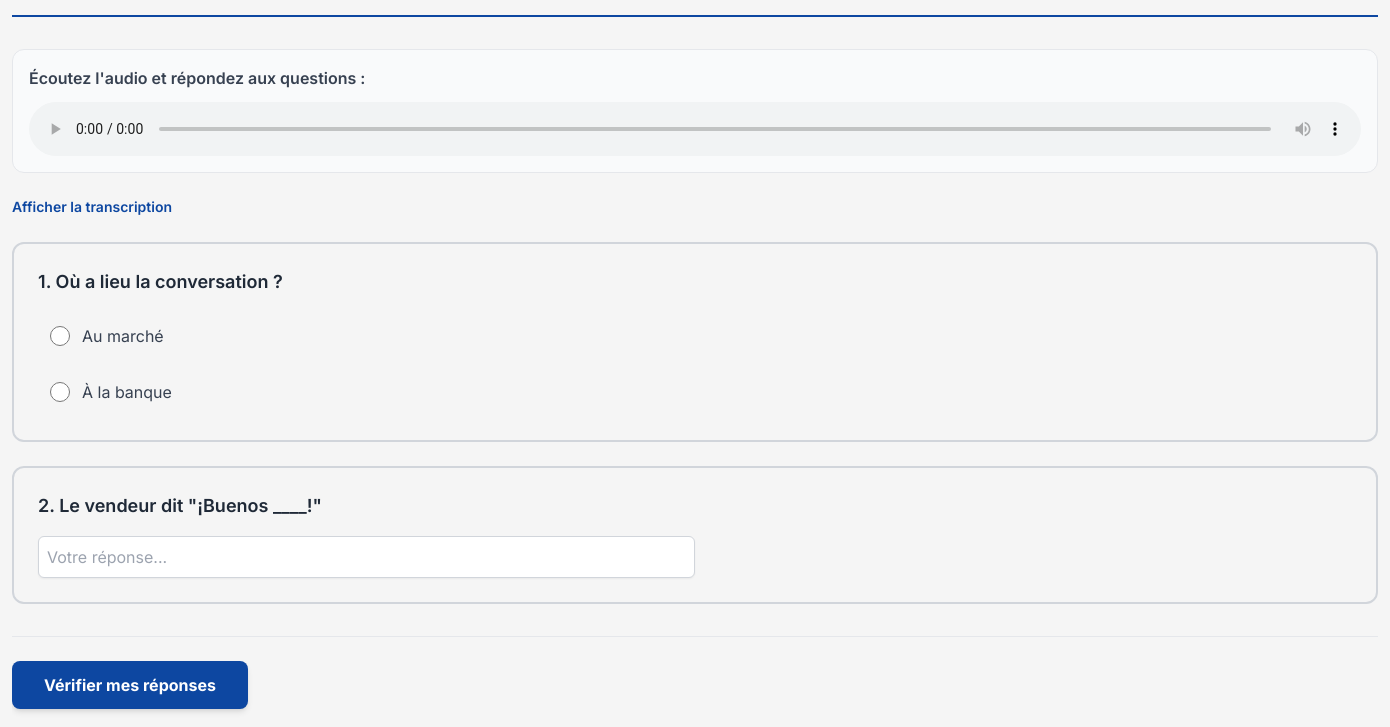
Test: ListeningExercise › réinitialise l'exercice lorsque "Réessayer" est cliqué
The width and height of the screenshot is (1390, 727).
Click the radio button labelled "À la banque": x=60, y=392 x1=50 y1=382 x2=70 y2=402
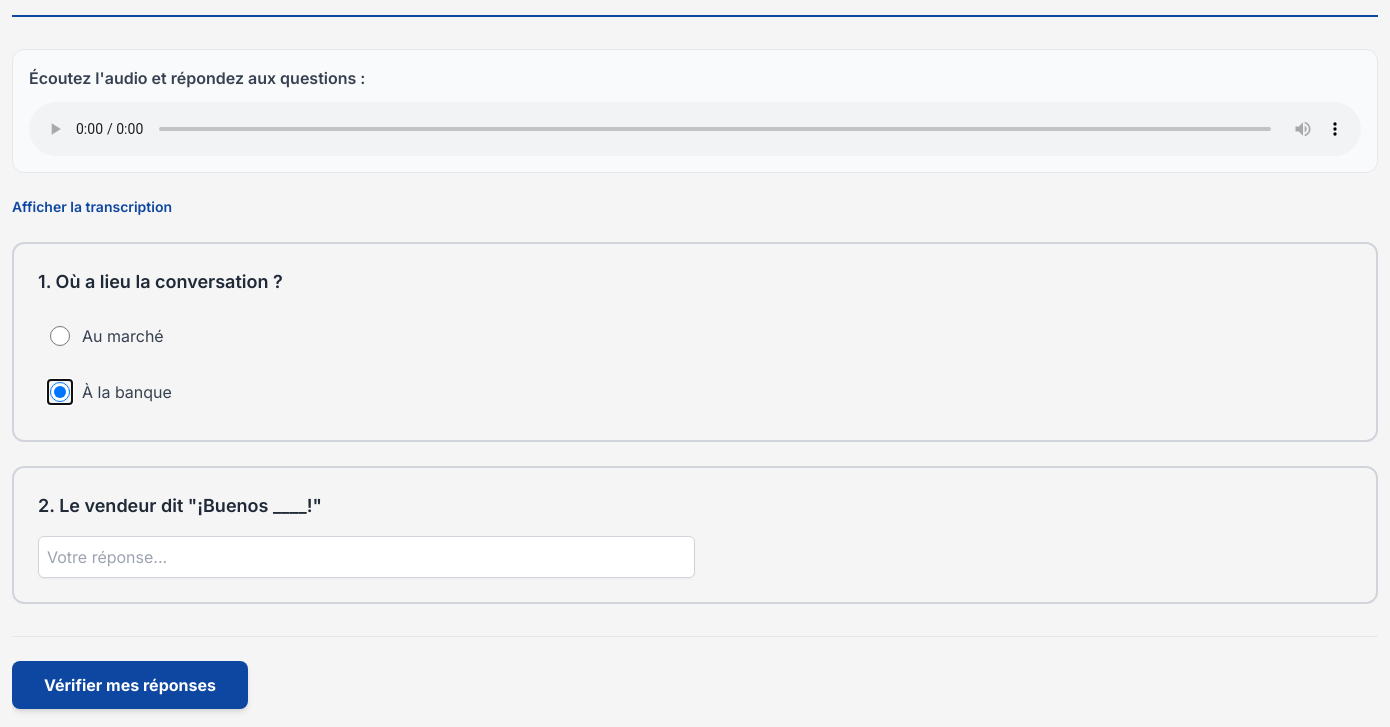
Click the button "Vérifier mes réponses": x=130, y=685 x1=12 y1=661 x2=248 y2=709
(page scrolled)
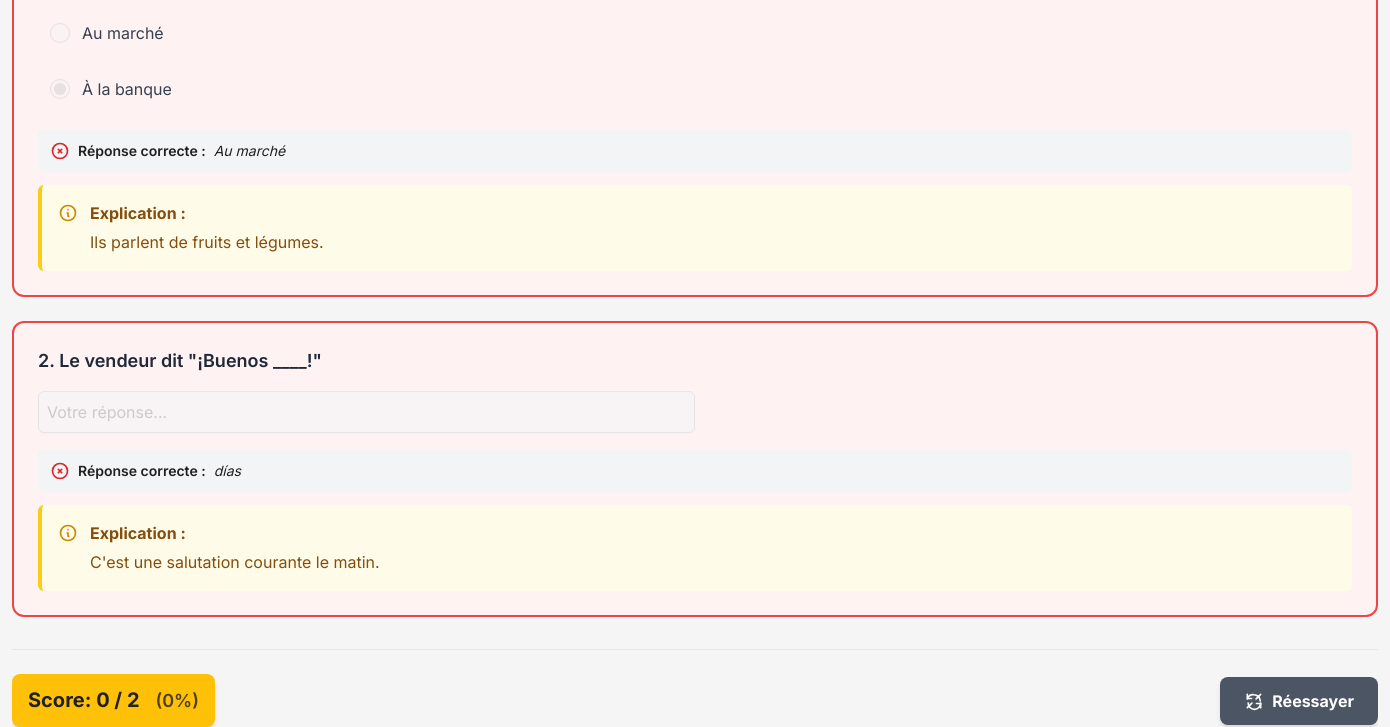
Now the text "Score: 0 / 2" is shown, box x1=28 y1=686 x2=140 y2=714
Click the button "Réessayer": x=1299, y=700 x1=1220 y1=676 x2=1378 y2=724
(page scrolled)
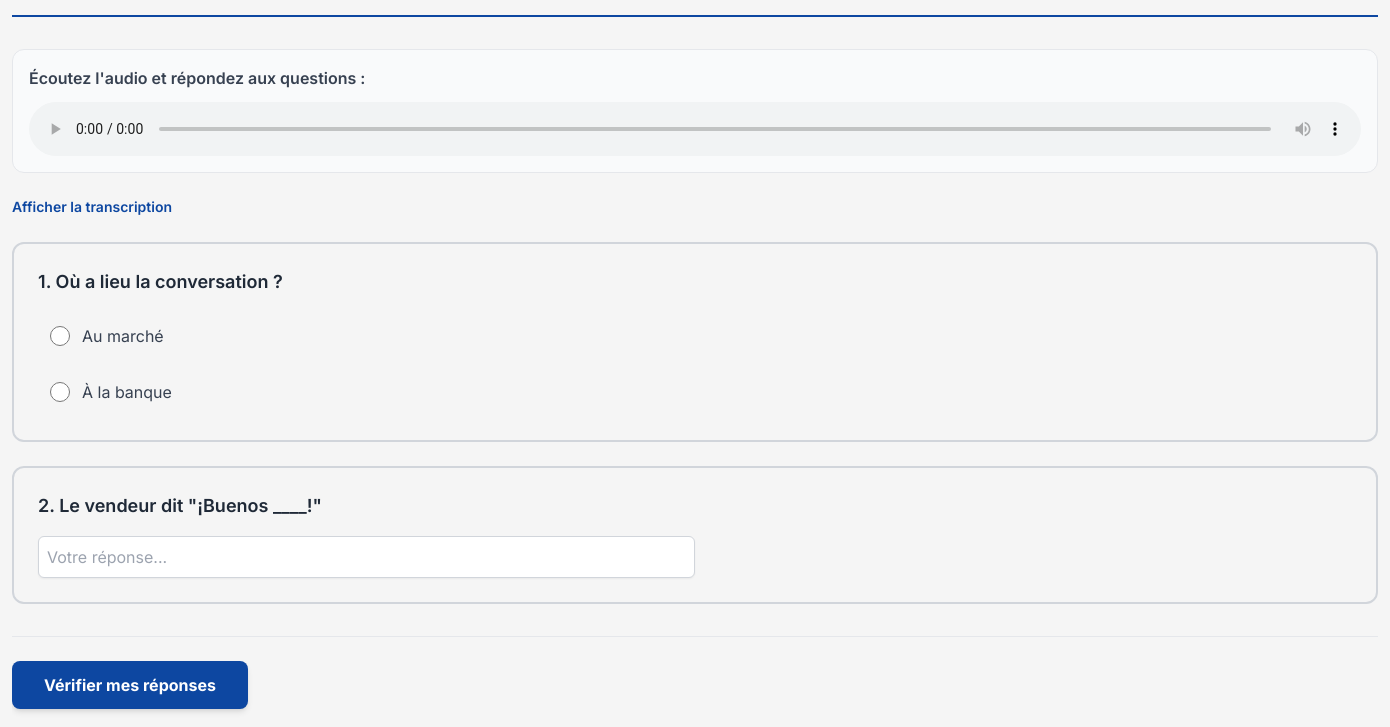
Now the radio button labelled "À la banque" is not checked, box x1=50 y1=382 x2=70 y2=402
Now the text "Score: 0 / 2" is gone
Now the button "Vérifier mes réponses" is shown, box x1=12 y1=661 x2=248 y2=709
